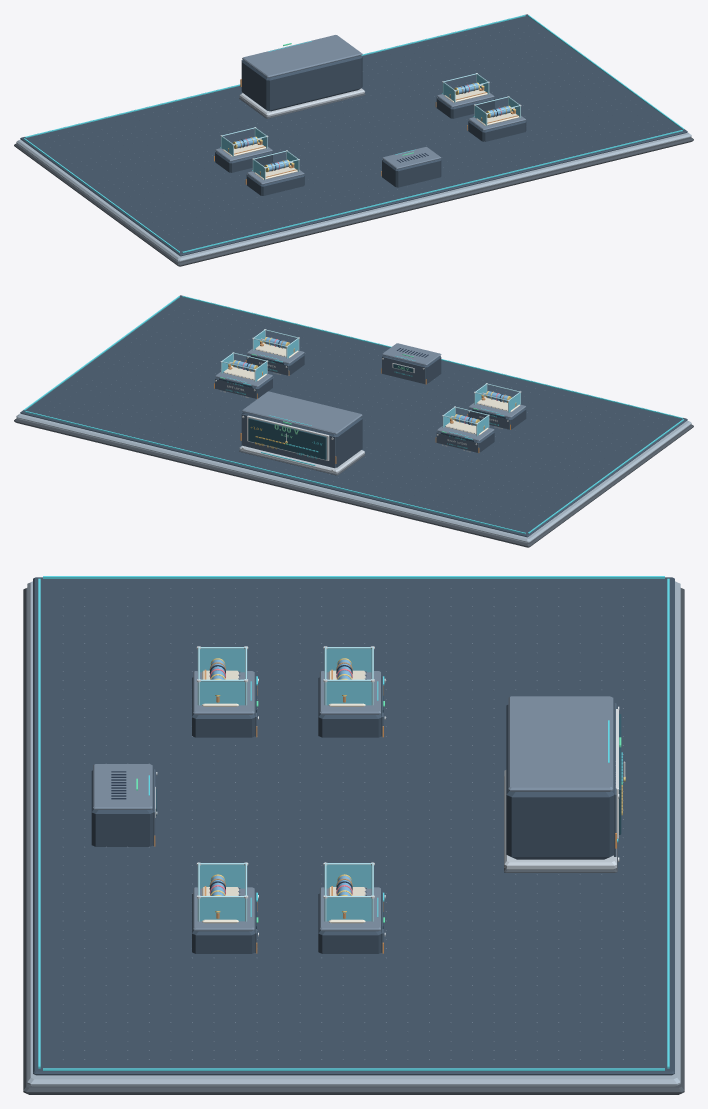
The model's file is Level35_Complete_ArtKit_Showcase.fbx.
The picture shows the model from 3 angles, top to bottom: view 1: azimuth 30°, elevation 25°; view 2: azimuth 150°, elevation 25°; view 3: azimuth 270°, elevation 25°; orthographic projection. The views are drawn at different scales.
Visible parts, largest first — view 1: Model::00_Optional_Showcase_Board__L35_TRAY_GraphiteWorkbenc, Model::00_Optional_Showcase_Board__L35_TRAY_AnodizedMachined, Model::06_Live_Bridge_Differential_Meter__L35_BRIDGE_METER_C, Model::00_Optional_Showcase_Board__L35_TRAY_HeavyDutyRubberB, Model::06_Live_Bridge_Differential_Meter__L35_BRIDGE_METER_T, Model::01_5V_Regulated_Supply__L35_SUPPLY_Chassis, Model::00_Optional_Showcase_Board__L35_TRAY_EdgeLight_5.75, Model::00_Optional_Showcase_Board__L35_TRAY_EdgeLight_-5.75, Model::06_Live_Bridge_Differential_Meter__L35_BRIDGE_METER_A, Model::01_5V_Regulated_Supply__L35_SUPPLY_Top_Lid, Model::02_Left_Upper_1kOhm__L35_LEFT_UPPER_Chassis, Model::04_Right_Upper_1kOhm__L35_RIGHT_UPPER_Chassis (+5 smaller); view 2: Model::00_Optional_Showcase_Board__L35_TRAY_GraphiteWorkbenc, Model::00_Optional_Showcase_Board__L35_TRAY_AnodizedMachined, Model::00_Optional_Showcase_Board__L35_TRAY_HeavyDutyRubberB, Model::06_Live_Bridge_Differential_Meter__L35_BRIDGE_METER_T, Model::06_Live_Bridge_Differential_Meter__L35_BRIDGE_METER_O, Model::06_Live_Bridge_Differential_Meter__L35_BRIDGE_METER_A (×2), Model::06_Live_Bridge_Differential_Meter__L35_BRIDGE_METER_C, Model::00_Optional_Showcase_Board__L35_TRAY_EdgeLight_-5.75, Model::06_Live_Bridge_Differential_Meter__L35_BRIDGE_METER_F, Model::00_Optional_Showcase_Board__L35_TRAY_EdgeLight_5.75, Model::01_5V_Regulated_Supply__L35_SUPPLY_Top_Lid, Model::01_5V_Regulated_Supply__L35_SUPPLY_Front_Console_Plat (+6 smaller); view 3: Model::00_Optional_Showcase_Board__L35_TRAY_GraphiteWorkbenc, Model::00_Optional_Showcase_Board__L35_TRAY_AnodizedMachined, Model::00_Optional_Showcase_Board__L35_TRAY_HeavyDutyRubberB, Model::06_Live_Bridge_Differential_Meter__L35_BRIDGE_METER_T, Model::06_Live_Bridge_Differential_Meter__L35_BRIDGE_METER_C, Model::01_5V_Regulated_Supply__L35_SUPPLY_Top_Lid, Model::01_5V_Regulated_Supply__L35_SUPPLY_Chassis, Model::00_Optional_Showcase_Board__L35_TRAY_PegboardDottedTo, Model::05_Right_Lower_1kOhm__L35_RIGHT_LOWER_SemiTransparent (×2), Model::04_Right_Upper_1kOhm__L35_RIGHT_UPPER_SemiTransparent (×2), Model::03_Left_Lower_1kOhm__L35_LEFT_LOWER_SemiTransparentSi (×2), Model::00_Optional_Showcase_Board__L35_TRAY_BlueTrim_-10.65 (+13 smaller).
Part boxes in pixels (x1,y1,x2,y2): Model::00_Optional_Showcase_Board__L35_TRAY_GraphiteWorkbenc: (20,14,687,256); Model::00_Optional_Showcase_Board__L35_TRAY_AnodizedMachined: (16,132,691,261); Model::06_Live_Bridge_Differential_Meter__L35_BRIDGE_METER_C: (242,55,362,111); Model::00_Optional_Showcase_Board__L35_TRAY_HeavyDutyRubberB: (14,137,693,266); Model::06_Live_Bridge_Differential_Meter__L35_BRIDGE_METER_T: (242,35,362,77); Model::01_5V_Regulated_Supply__L35_SUPPLY_Chassis: (382,159,441,187); Model::00_Optional_Showcase_Board__L35_TRAY_EdgeLight_5.75: (182,130,682,252); Model::00_Optional_Showcase_Board__L35_TRAY_EdgeLight_-5.75: (25,15,525,137); Model::06_Live_Bridge_Differential_Meter__L35_BRIDGE_METER_A: (239,88,364,116); Model::01_5V_Regulated_Supply__L35_SUPPLY_Top_Lid: (382,147,441,169); Model::02_Left_Upper_1kOhm__L35_LEFT_UPPER_Chassis: (468,120,526,141); Model::04_Right_Upper_1kOhm__L35_RIGHT_UPPER_Chassis: (247,175,304,195); Model::00_Optional_Showcase_Board__L35_TRAY_GraphiteWorkbenc: (20,295,687,537); Model::00_Optional_Showcase_Board__L35_TRAY_AnodizedMachined: (16,413,691,542); Model::00_Optional_Showcase_Board__L35_TRAY_HeavyDutyRubberB: (14,418,693,547); Model::06_Live_Bridge_Differential_Meter__L35_BRIDGE_METER_T: (242,391,362,434); Model::06_Live_Bridge_Differential_Meter__L35_BRIDGE_METER_O: (248,418,326,459); Model::06_Live_Bridge_Differential_Meter__L35_BRIDGE_METER_A (×2): (239,415,364,473); Model::06_Live_Bridge_Differential_Meter__L35_BRIDGE_METER_C: (242,412,362,467); Model::00_Optional_Showcase_Board__L35_TRAY_EdgeLight_-5.75: (25,411,525,533); Model::06_Live_Bridge_Differential_Meter__L35_BRIDGE_METER_F: (241,414,335,468); Model::00_Optional_Showcase_Board__L35_TRAY_EdgeLight_5.75: (182,296,682,418); Model::01_5V_Regulated_Supply__L35_SUPPLY_Top_Lid: (382,343,441,365); Model::01_5V_Regulated_Supply__L35_SUPPLY_Front_Console_Plat: (382,356,425,384); Model::00_Optional_Showcase_Board__L35_TRAY_GraphiteWorkbenc: (33,577,674,1075); Model::00_Optional_Showcase_Board__L35_TRAY_AnodizedMachined: (27,581,680,1086); Model::00_Optional_Showcase_Board__L35_TRAY_HeavyDutyRubberB: (23,588,684,1094); Model::06_Live_Bridge_Differential_Meter__L35_BRIDGE_METER_T: (508,696,613,791); Model::06_Live_Bridge_Differential_Meter__L35_BRIDGE_METER_C: (506,705,613,859); Model::01_5V_Regulated_Supply__L35_SUPPLY_Top_Lid: (93,764,152,809); Model::01_5V_Regulated_Supply__L35_SUPPLY_Chassis: (91,770,153,846); Model::00_Optional_Showcase_Board__L35_TRAY_PegboardDottedTo: (62,588,645,1059); Model::05_Right_Lower_1kOhm__L35_RIGHT_LOWER_SemiTransparent (×2): (326,648,371,705); Model::04_Right_Upper_1kOhm__L35_RIGHT_UPPER_SemiTransparent (×2): (200,648,244,705); Model::03_Left_Lower_1kOhm__L35_LEFT_LOWER_SemiTransparentSi (×2): (326,865,371,921); Model::00_Optional_Showcase_Board__L35_TRAY_BlueTrim_-10.65: (43,576,664,578).
Size of the model in its own units: 21.8 by 2.08 by 12.1.
